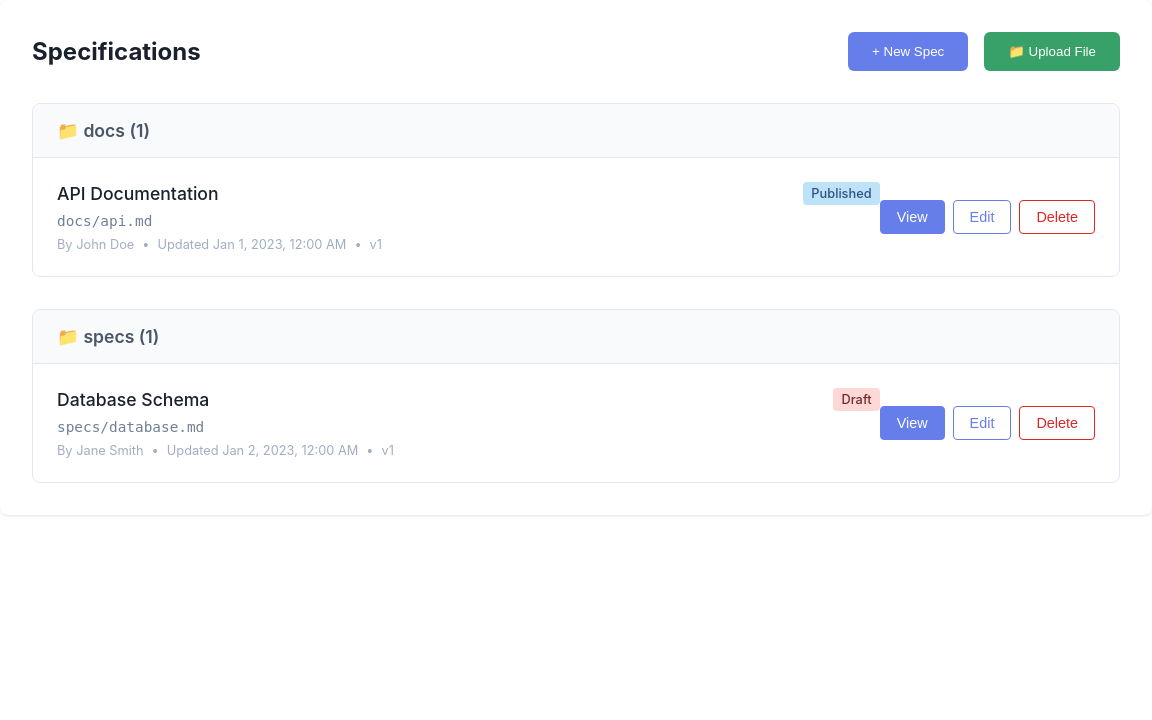
it: SpecificationManagement › opens create spec modal when button is clicked
The image size is (1152, 720).
Step 1. Click the button "+ New Spec" → (908,52), box [848,32,968,71]
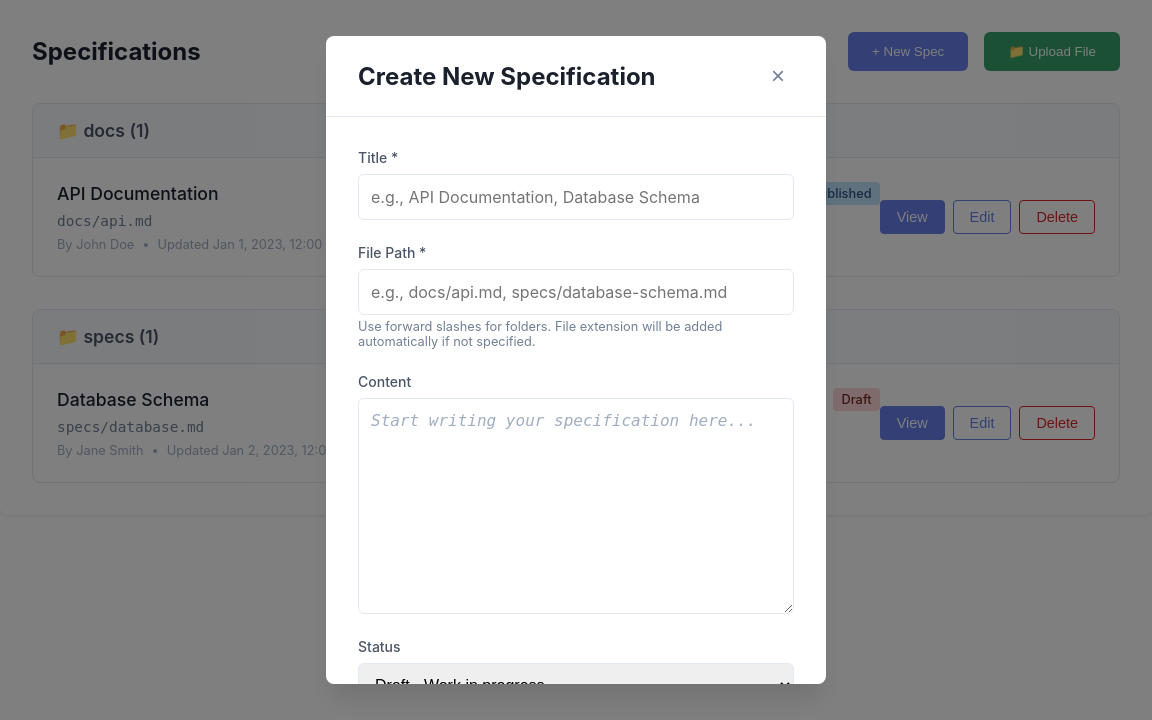
Expected: the heading "Create New Specification" is shown, [358,62,656,90]
